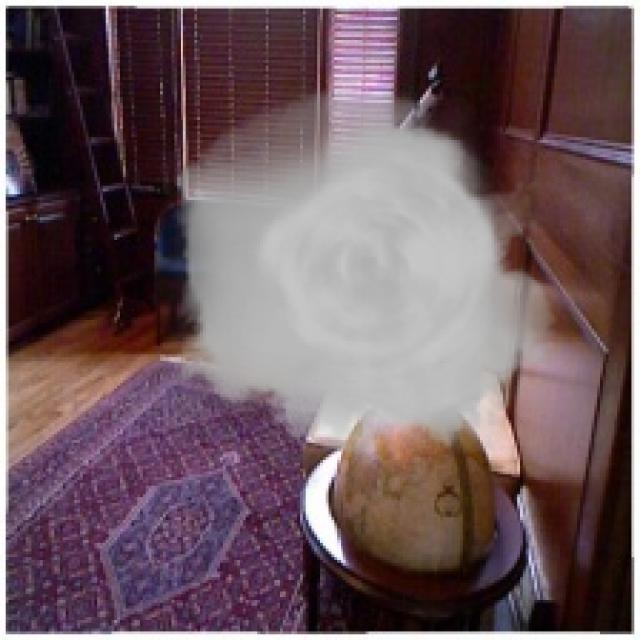Smoke: (154, 89, 569, 452)
